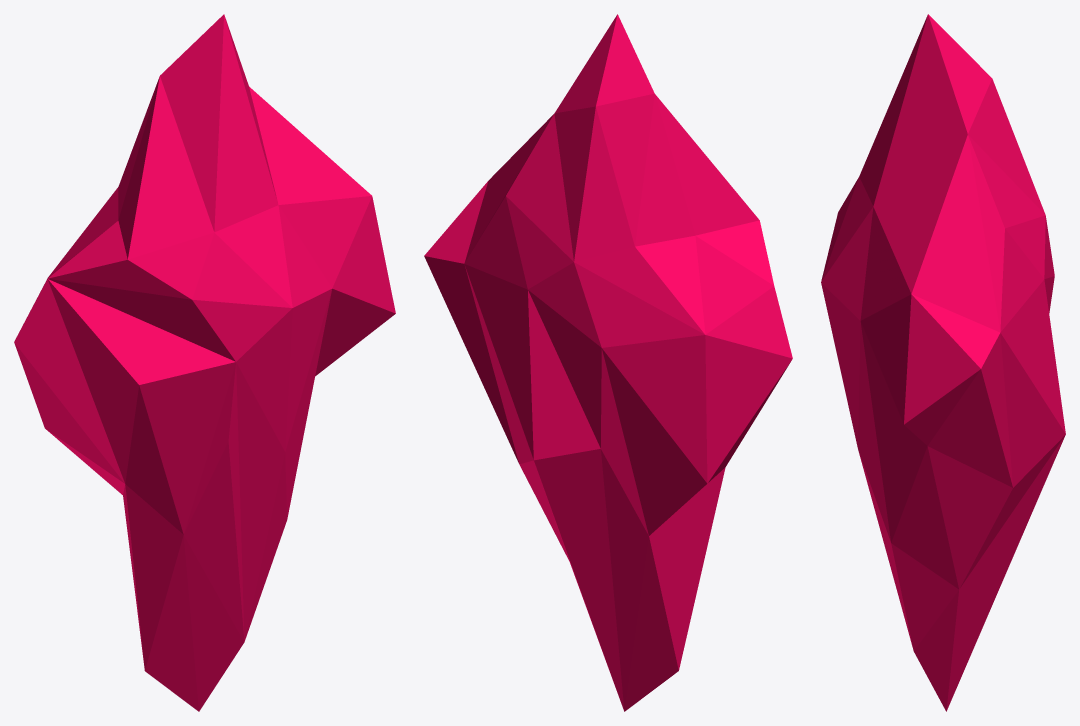
Rendered from Crystal_016.fbx.
3 views of the same model, side by side, from view 1: azimuth 30°, elevation 25°; view 2: azimuth 150°, elevation 25°; view 3: azimuth 270°, elevation 25° (orthographic). The views are drawn at different scales.
Parts seen in each view (by area): view 1: Crystal.016; view 2: Crystal.016; view 3: Crystal.016.
Boxes of the visible parts, box(x1,y1,x2,y2) form: Crystal.016: box(14, 14, 395, 711); Crystal.016: box(424, 14, 792, 711); Crystal.016: box(821, 14, 1065, 711).
Bounding box in the file's own units: 304 × 557 × 175.
